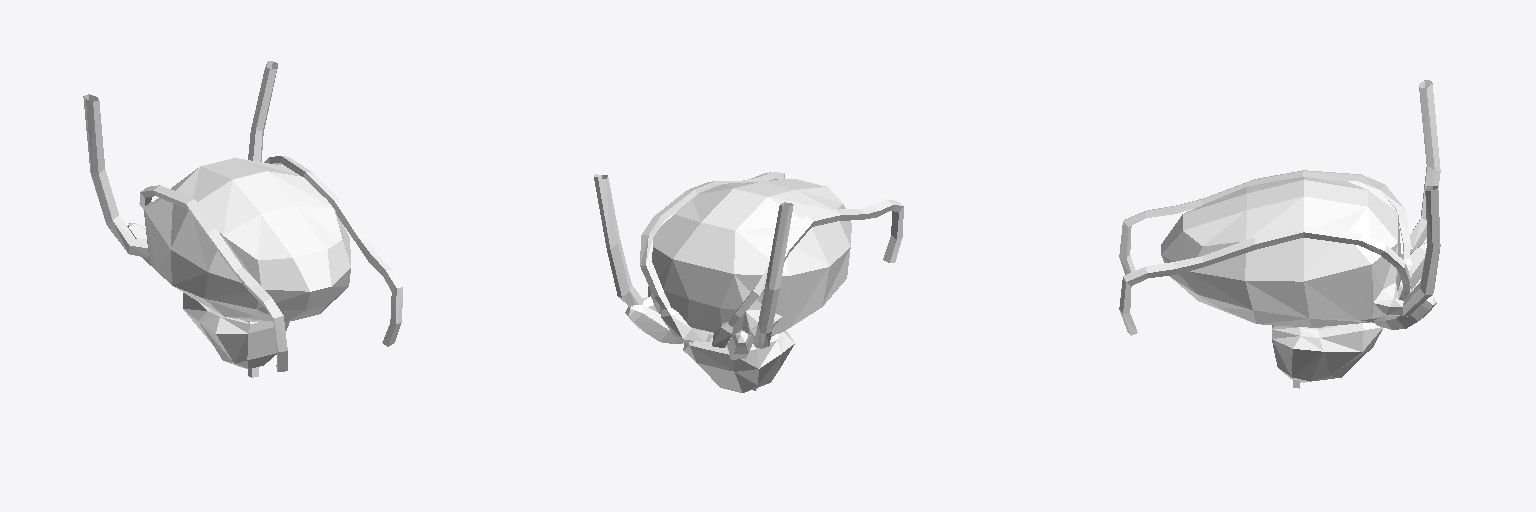
File: Urogenital_3.obj
The picture shows the model from 3 angles: view 1: azimuth 30°, elevation 25°; view 2: azimuth 150°, elevation 25°; view 3: azimuth 270°, elevation 25°; orthographic projection.
Visible parts, largest first — view 1: Urogenital_Male.obj; view 2: Urogenital_Male.obj; view 3: Urogenital_Male.obj.
Boxes of the visible parts, x1,y1,x2,y2 form: Urogenital_Male.obj: [83, 61, 402, 377]; Urogenital_Male.obj: [594, 172, 903, 392]; Urogenital_Male.obj: [1119, 80, 1440, 388].
Bounding box in the file's own units: 0.0627 × 0.0785 × 0.0891.